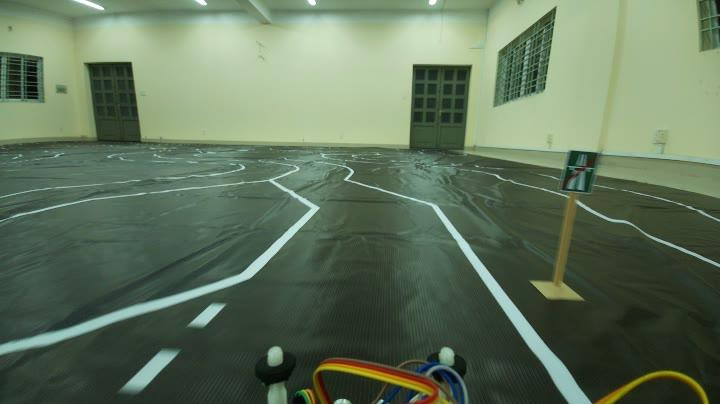highway_exit: (554, 141, 601, 204)
